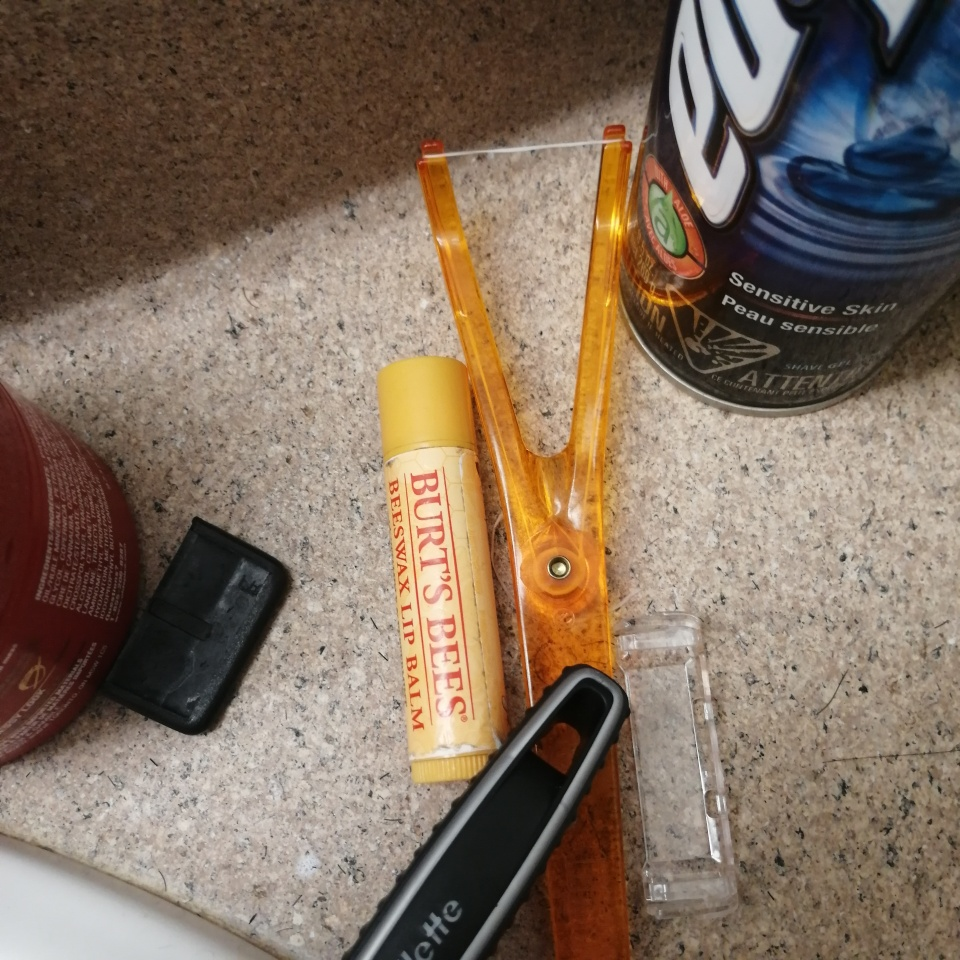chapstick: (376, 356, 513, 783)
